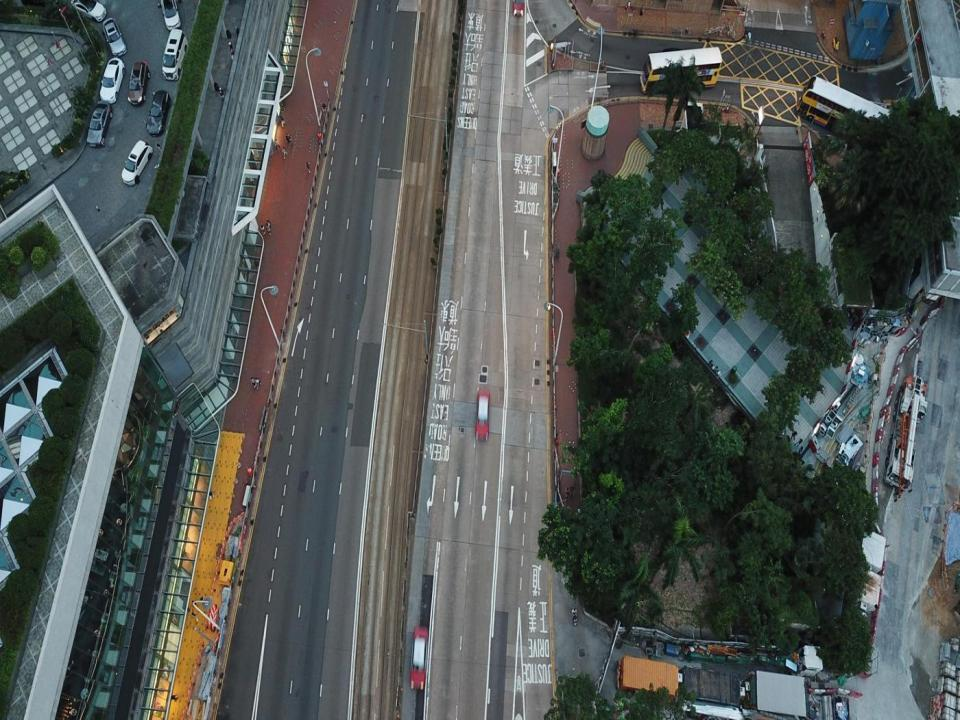bus: (795, 76, 891, 142), (638, 46, 722, 92)
car: (122, 140, 154, 185), (87, 101, 113, 152), (99, 56, 125, 103), (148, 88, 172, 138), (410, 626, 427, 691), (127, 60, 151, 106), (102, 16, 126, 57), (73, 0, 108, 24), (476, 391, 489, 444), (160, 0, 182, 27), (510, 0, 524, 21)
van: (161, 28, 189, 78)
